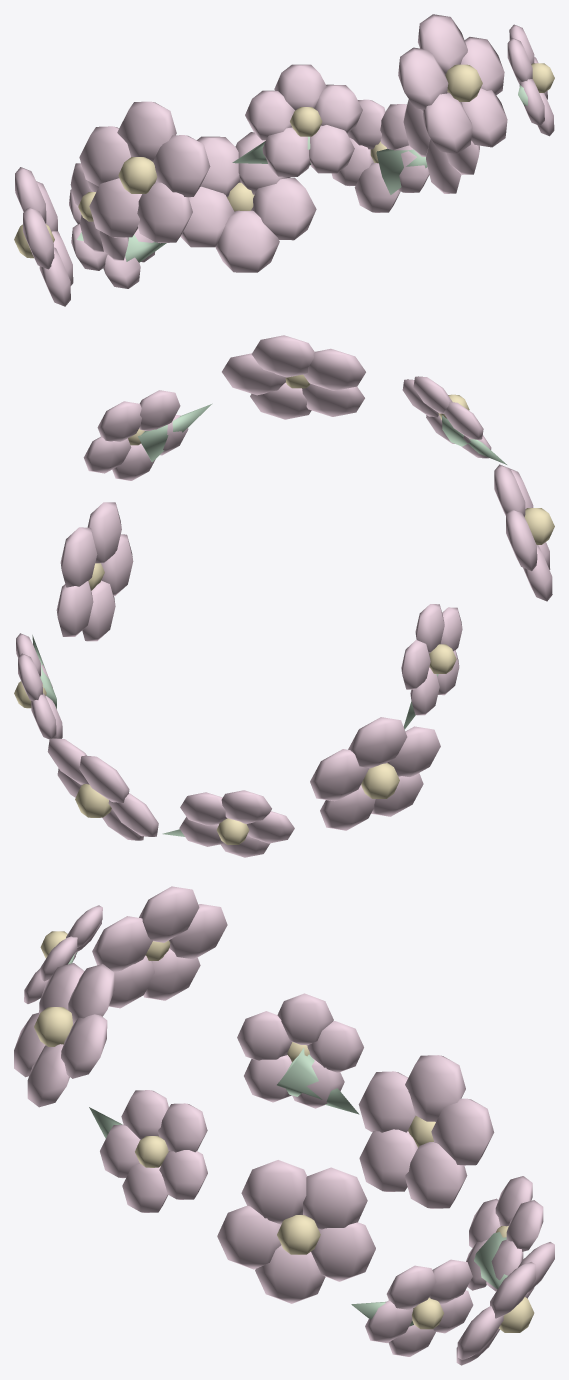
The model's file is mare_garland.gltf.
3 renders of one model, top to bottom at view 1: azimuth 30°, elevation 25°; view 2: azimuth 150°, elevation 25°; view 3: azimuth 270°, elevation 25°, orthographic. The views are drawn at different scales.
Parts seen in each view (by area): view 1: mare_garland; view 2: mare_garland; view 3: mare_garland.
Part boxes in pixels (x1,y1,x2,y2): mare_garland: (14,14,554,306); mare_garland: (14,335,554,857); mare_garland: (14,886,554,1365).
Size of the model in its own units: 0.5771 by 0.4526 by 0.5522.
